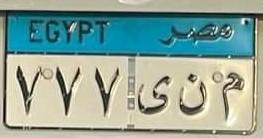7: (14, 62, 44, 116), (93, 64, 123, 114), (54, 64, 84, 114)
meem: (214, 68, 246, 120)
noon: (176, 70, 208, 120)
yaa: (135, 73, 172, 119)
